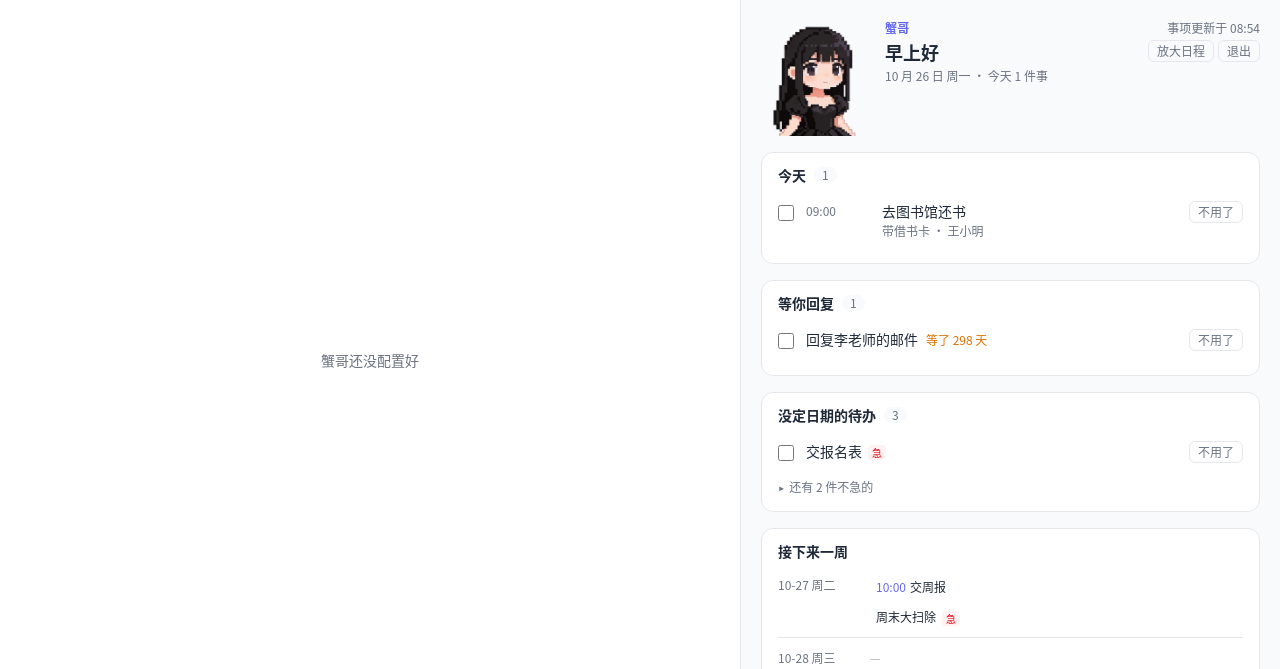
it: AssistantPage › tags urgent items 急 and relaxed ones 不急, and puts urgent ones first
What coordinates should you click on to do the following:
click the button "▸ 还有 2 件不急的"
I would click on:
 (826, 487)
Its box is left=778, top=475, right=873, bottom=499.
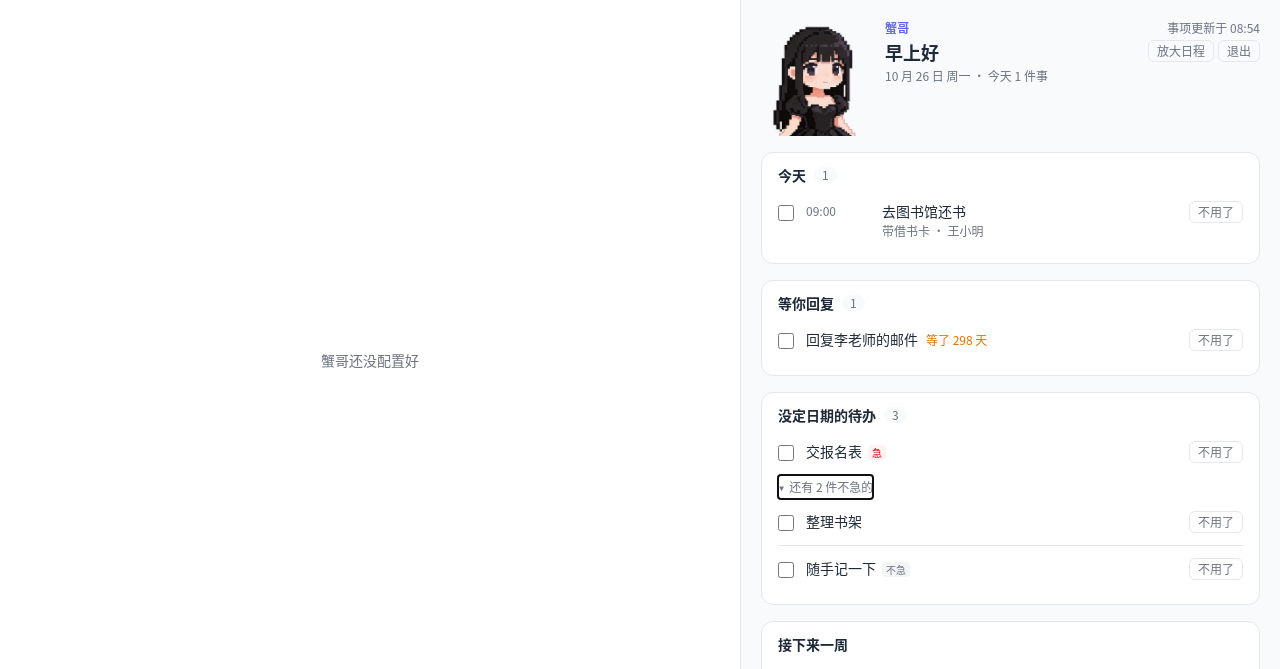
Expected: the text "急" next to "交报名表" is shown, left=872, top=445, right=882, bottom=460
Now the text "不急" is shown, box left=882, top=562, right=910, bottom=577
